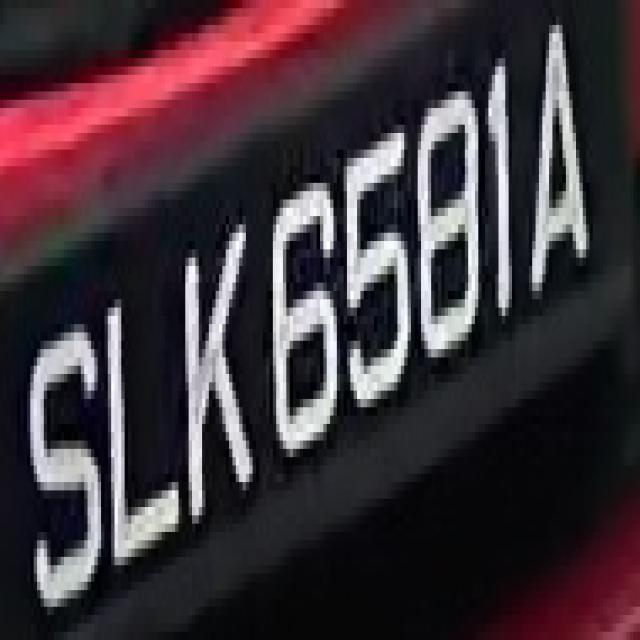1: (485, 25, 522, 341)
5: (330, 108, 418, 424)
6: (260, 175, 344, 457)
8: (408, 100, 492, 357)
A: (515, 8, 603, 316)
K: (175, 224, 253, 524)
L: (91, 258, 175, 565)
S: (20, 291, 101, 615)
